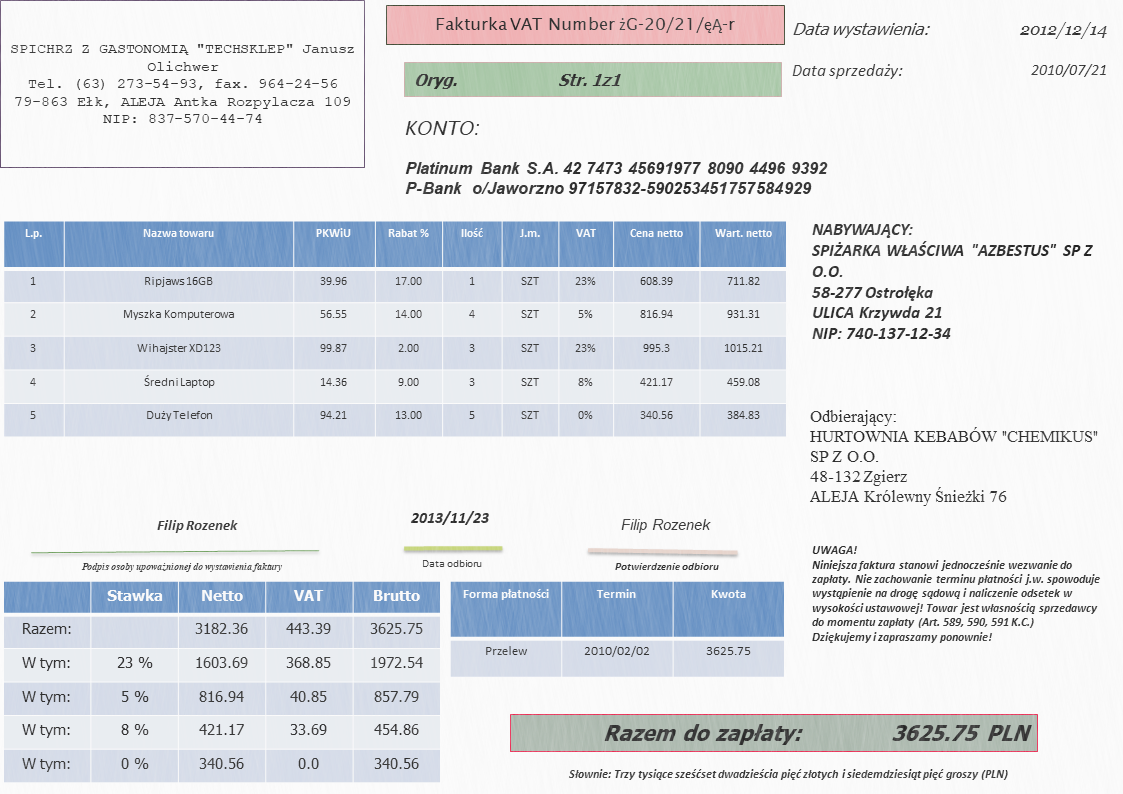Table: (2, 219, 788, 438), (1, 580, 441, 783), (449, 578, 787, 680)
TextBox: (809, 220, 1098, 344), (9, 39, 355, 129), (810, 542, 1102, 645), (807, 408, 1099, 506), (403, 157, 833, 201), (601, 718, 1032, 747), (565, 766, 1011, 784), (432, 12, 739, 37), (413, 69, 624, 92), (79, 559, 285, 574), (789, 19, 934, 39), (788, 62, 905, 82), (617, 514, 714, 535), (1018, 20, 1109, 41), (1027, 59, 1109, 80), (155, 515, 238, 535), (407, 508, 490, 528), (403, 118, 481, 139), (612, 560, 722, 574), (417, 555, 483, 572)
